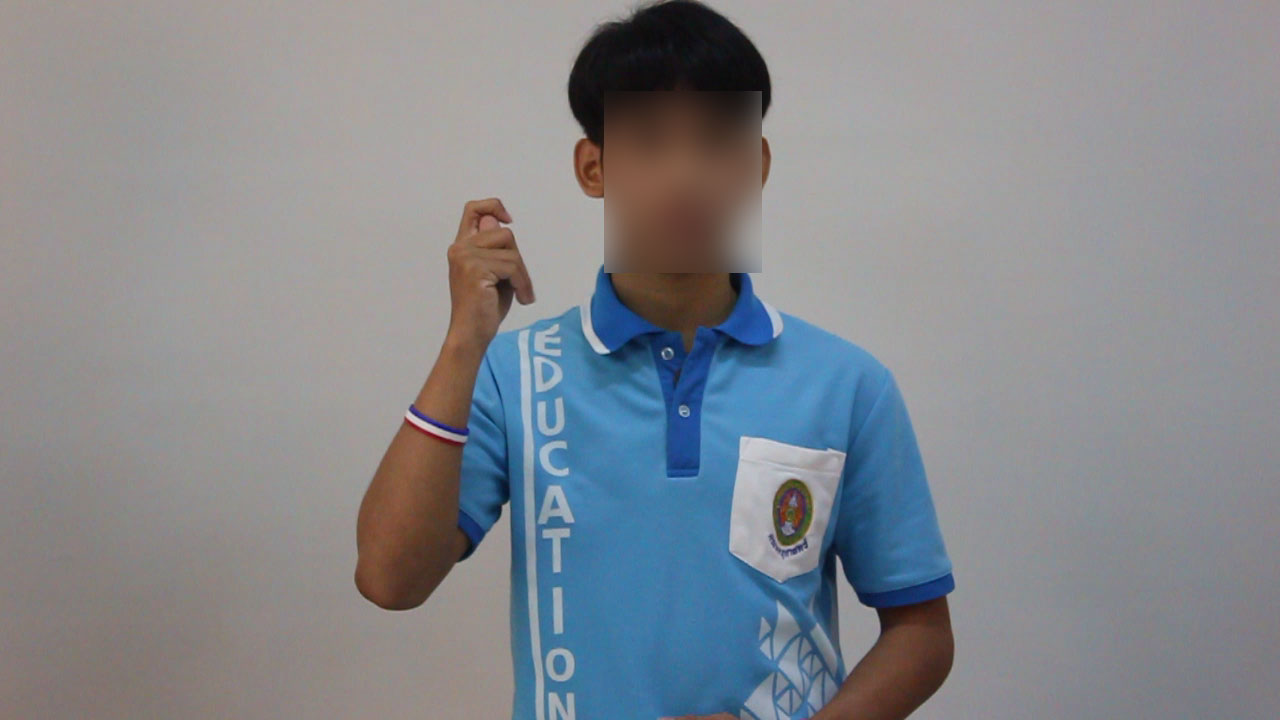or: (439, 182, 540, 371)
